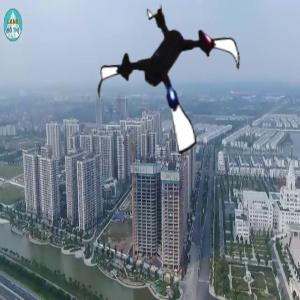drone: (95, 1, 250, 156)
